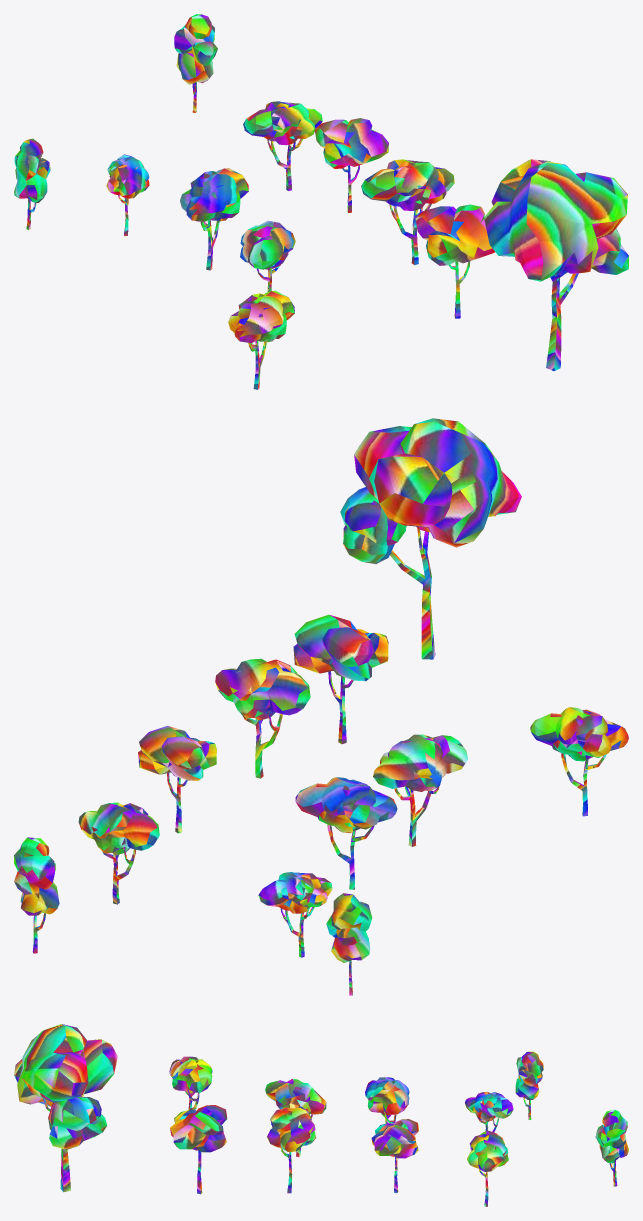
The model's file is trees.glb.
3 renders of one model, top to bottom at view 1: azimuth 30°, elevation 25°; view 2: azimuth 150°, elevation 25°; view 3: azimuth 270°, elevation 25°, orthographic. The views are drawn at different scales.
Visible parts, largest first — view 1: Trees; view 2: Trees; view 3: Trees.
Boxes of the visible parts, x1=… form: Trees: x1=14, y1=14, x2=628, y2=389; Trees: x1=14, y1=418, x2=628, y2=995; Trees: x1=14, y1=1024, x2=628, y2=1206.
Bounding box in the file's own units: 36.38 × 25.57 × 78.21.
Materials: 1 (1 with a texture image).
